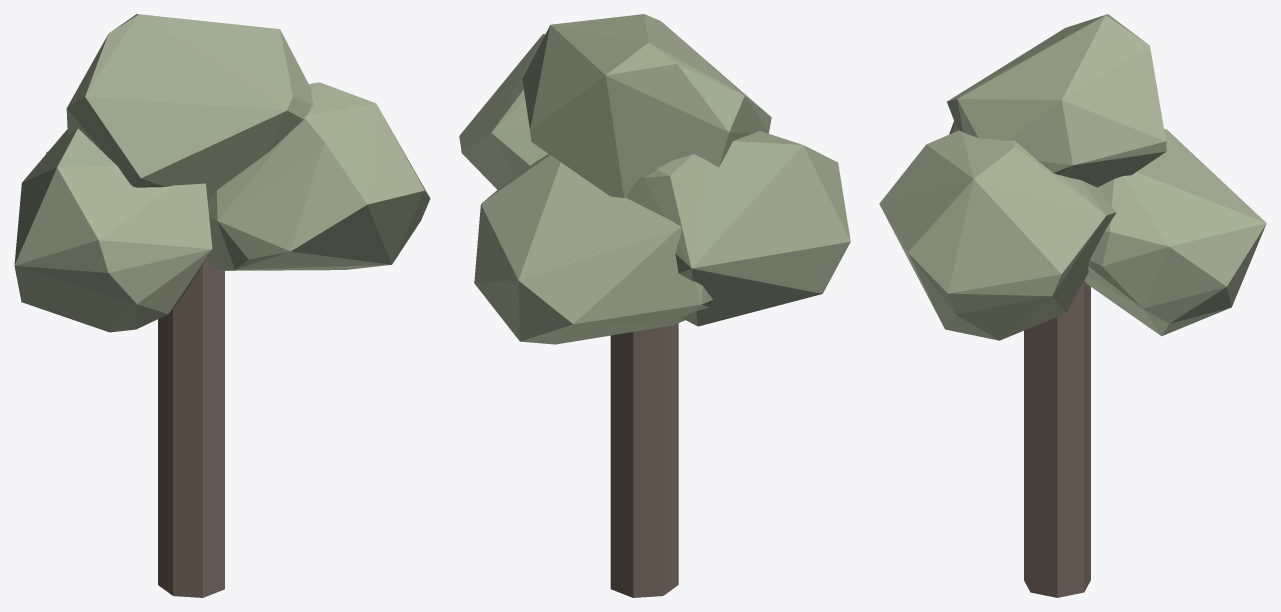
File: arvore_baixa_prado.glb
3 renders of one model, left to right at view 1: azimuth 30°, elevation 25°; view 2: azimuth 150°, elevation 25°; view 3: azimuth 270°, elevation 25°, orthographic. The views are drawn at different scales.
Visible parts, largest first — view 1: arvore_baixa_prado_part_003, arvore_baixa_prado_part_002, arvore_baixa_prado_part_001, arvore_baixa_prado_part_000; view 2: arvore_baixa_prado_part_004, arvore_baixa_prado_part_003, arvore_baixa_prado_part_001, arvore_baixa_prado_part_000, arvore_baixa_prado_part_002; view 3: arvore_baixa_prado_part_002, arvore_baixa_prado_part_003, arvore_baixa_prado_part_004, arvore_baixa_prado_part_000.
Boxes of the visible parts, left/top/right/bottom form: arvore_baixa_prado_part_003: left=66, top=14, right=312, bottom=201; arvore_baixa_prado_part_002: left=207, top=82, right=430, bottom=270; arvore_baixa_prado_part_001: left=14, top=128, right=212, bottom=332; arvore_baixa_prado_part_000: left=158, top=257, right=224, bottom=597; arvore_baixa_prado_part_004: left=474, top=154, right=712, bottom=344; arvore_baixa_prado_part_003: left=522, top=14, right=771, bottom=198; arvore_baixa_prado_part_001: left=626, top=131, right=850, bottom=326; arvore_baixa_prado_part_000: left=610, top=323, right=678, bottom=597; arvore_baixa_prado_part_002: left=459, top=34, right=548, bottom=189; arvore_baixa_prado_part_002: left=879, top=130, right=1116, bottom=340; arvore_baixa_prado_part_003: left=947, top=14, right=1166, bottom=187; arvore_baixa_prado_part_004: left=1084, top=129, right=1266, bottom=336; arvore_baixa_prado_part_000: left=1024, top=280, right=1090, bottom=597.
Size of the model in its own units: 2.99 by 4.26 by 2.7.
